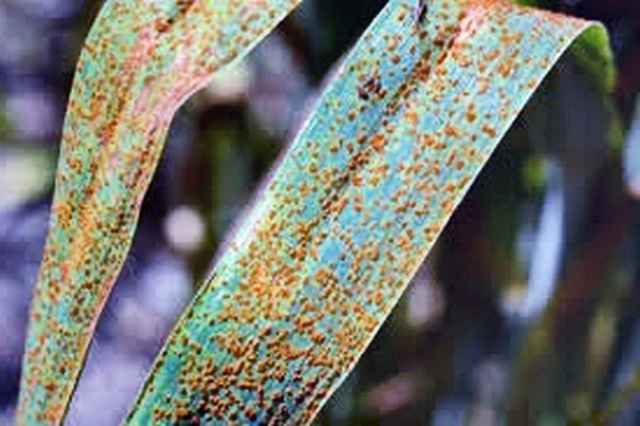Leaf Rust: (172, 46, 492, 393)
